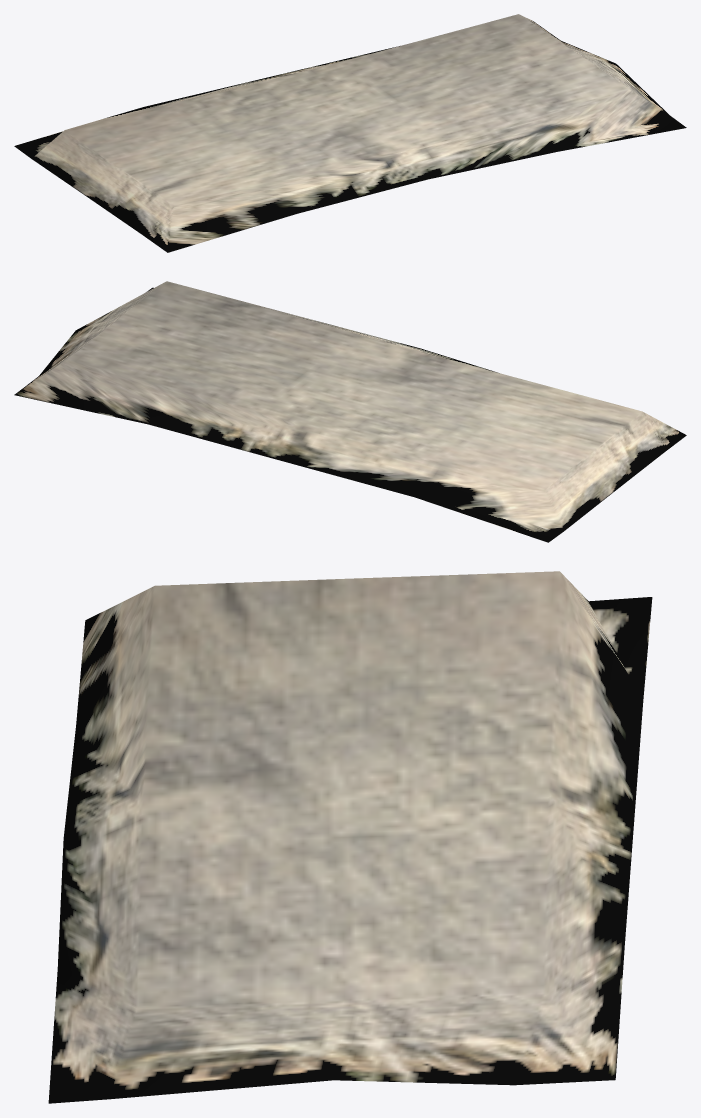
Rendered from bedding.glb.
The picture shows the model from 3 angles, top to bottom: view 1: azimuth 30°, elevation 25°; view 2: azimuth 150°, elevation 25°; view 3: azimuth 270°, elevation 25°; orthographic projection. The views are drawn at different scales.
Parts seen in each view (by area): view 1: chamberhearthbeds; view 2: chamberhearthbeds; view 3: chamberhearthbeds.
Boxes of the visible parts, box(x1,y1,x2,y2) form: chamberhearthbeds: box(14, 14, 686, 252); chamberhearthbeds: box(14, 281, 686, 542); chamberhearthbeds: box(48, 571, 652, 1103).
Bounding box in the file's own units: 0.154 × 0.0117 × 0.077.
Materials: 1 (1 with a texture image).
